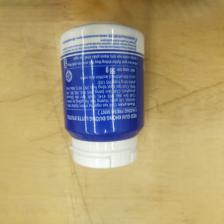Xylitol_blue: (58, 21, 146, 169)
